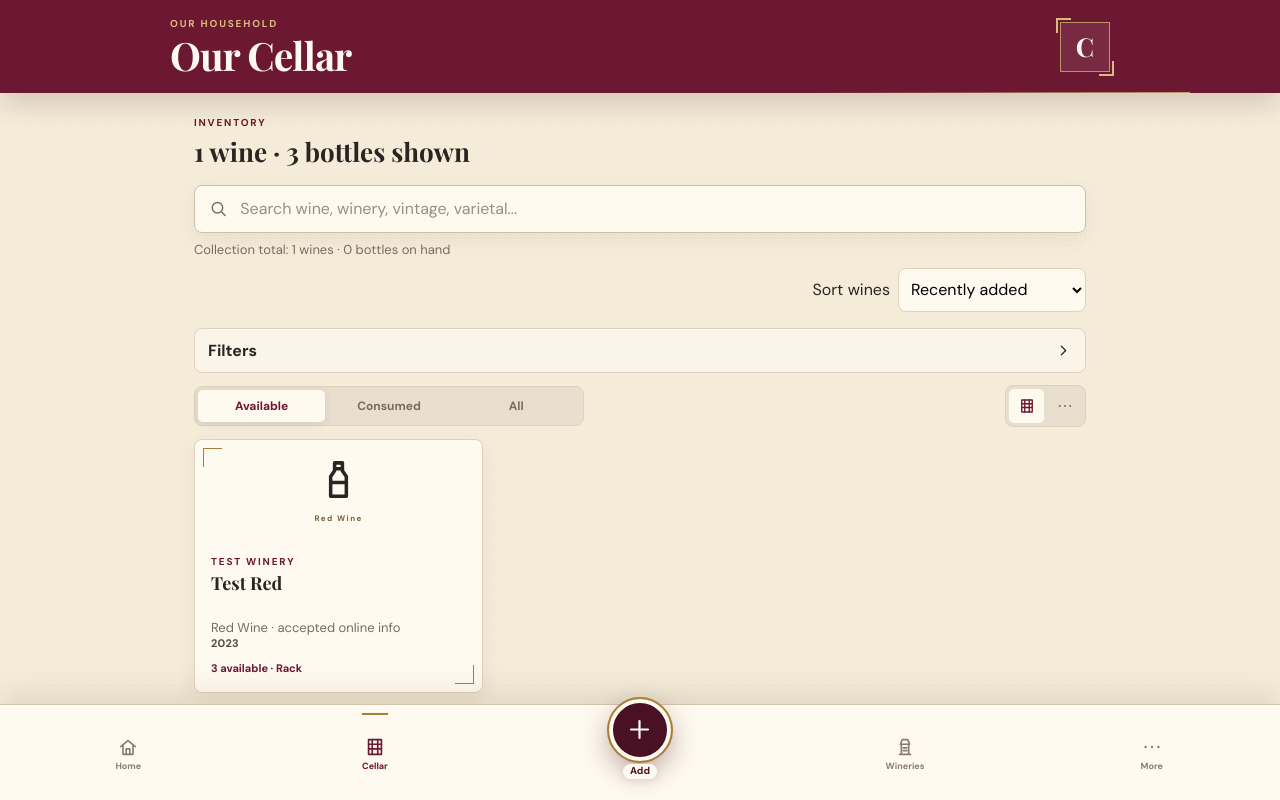
it: Pass 3 queue opens directly at review and Accept returns to the searched queue
Click the button "More".
click(1152, 754)  # box [1028, 712, 1275, 795]
(page scrolled)
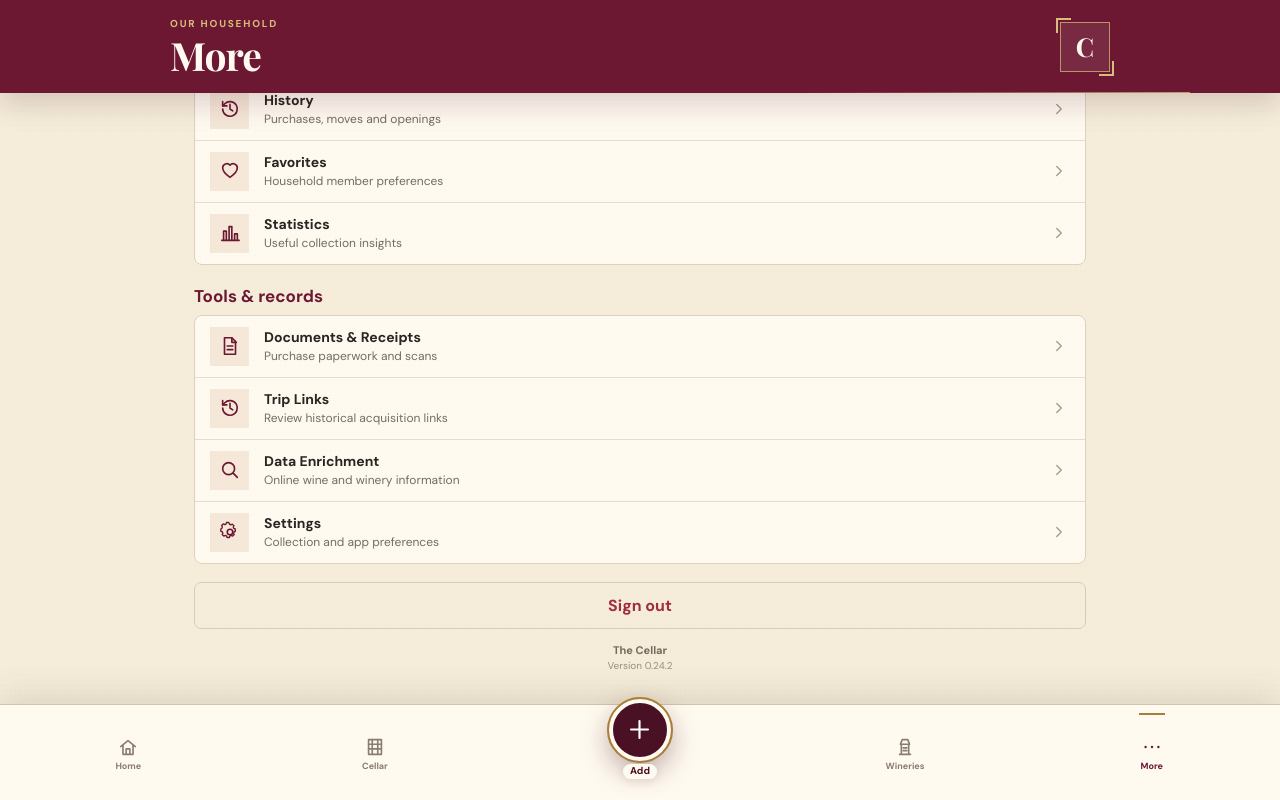
Click the button "Data Enrichment Online wine and winery information".
click(230, 470)  # box [195, 440, 1085, 502]
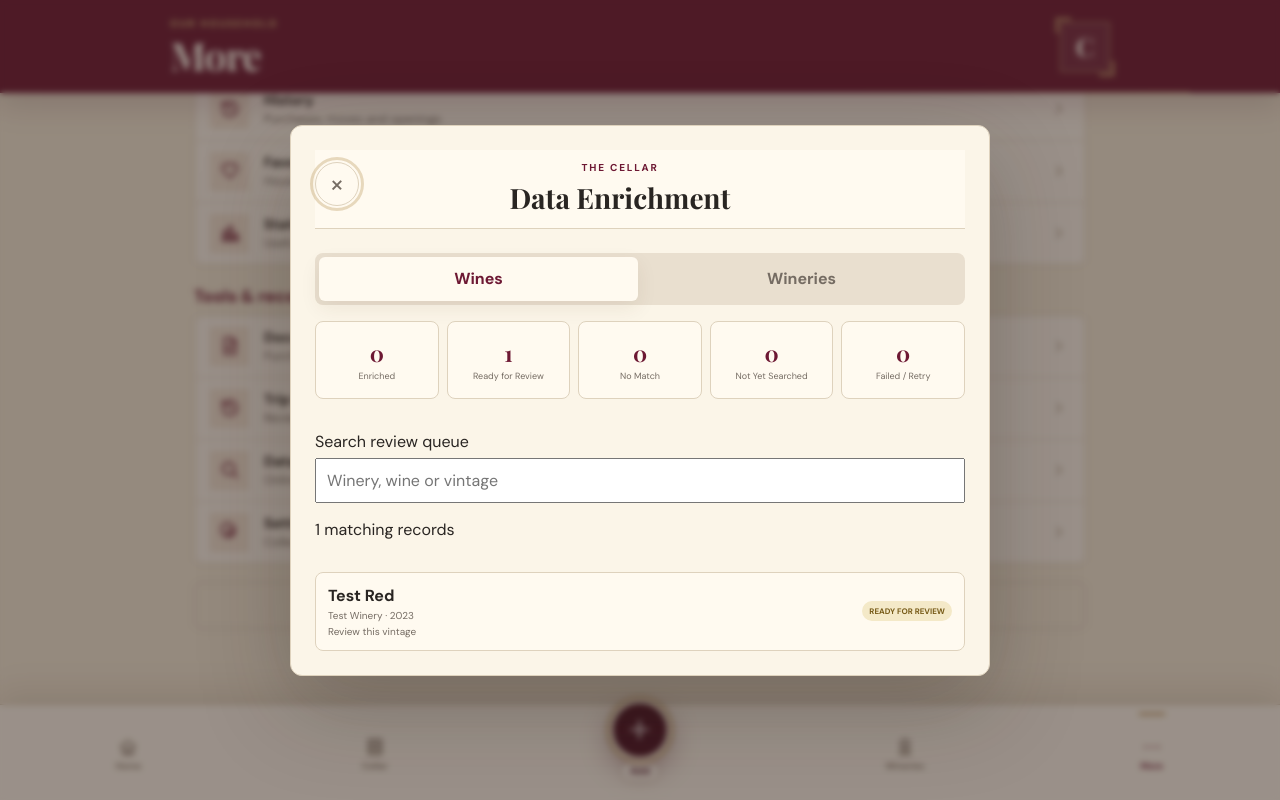
Type "Test Winery" into the search field labelled "Search review queue".
click(640, 480); type("Test Winery")  # box [315, 458, 965, 502]
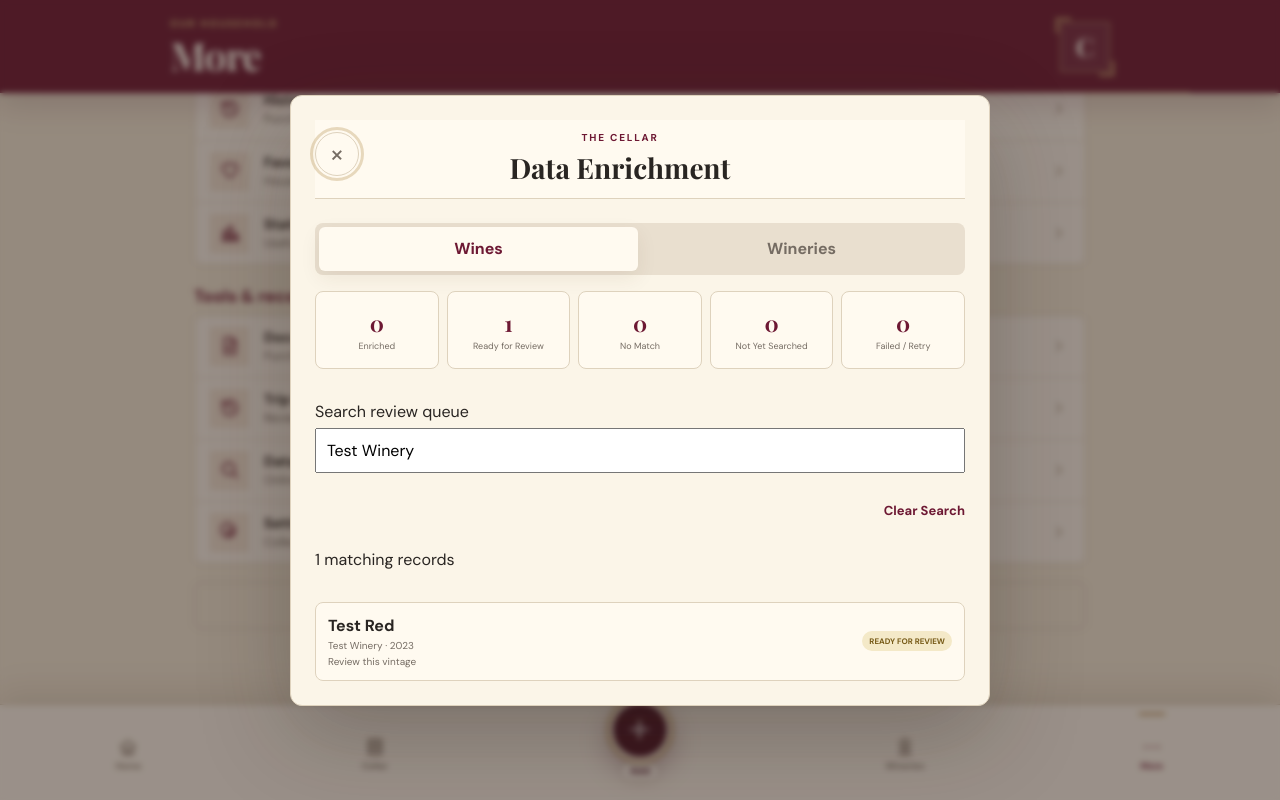
Click the button "1 Ready for Review".
click(508, 330)  # box [447, 290, 570, 368]
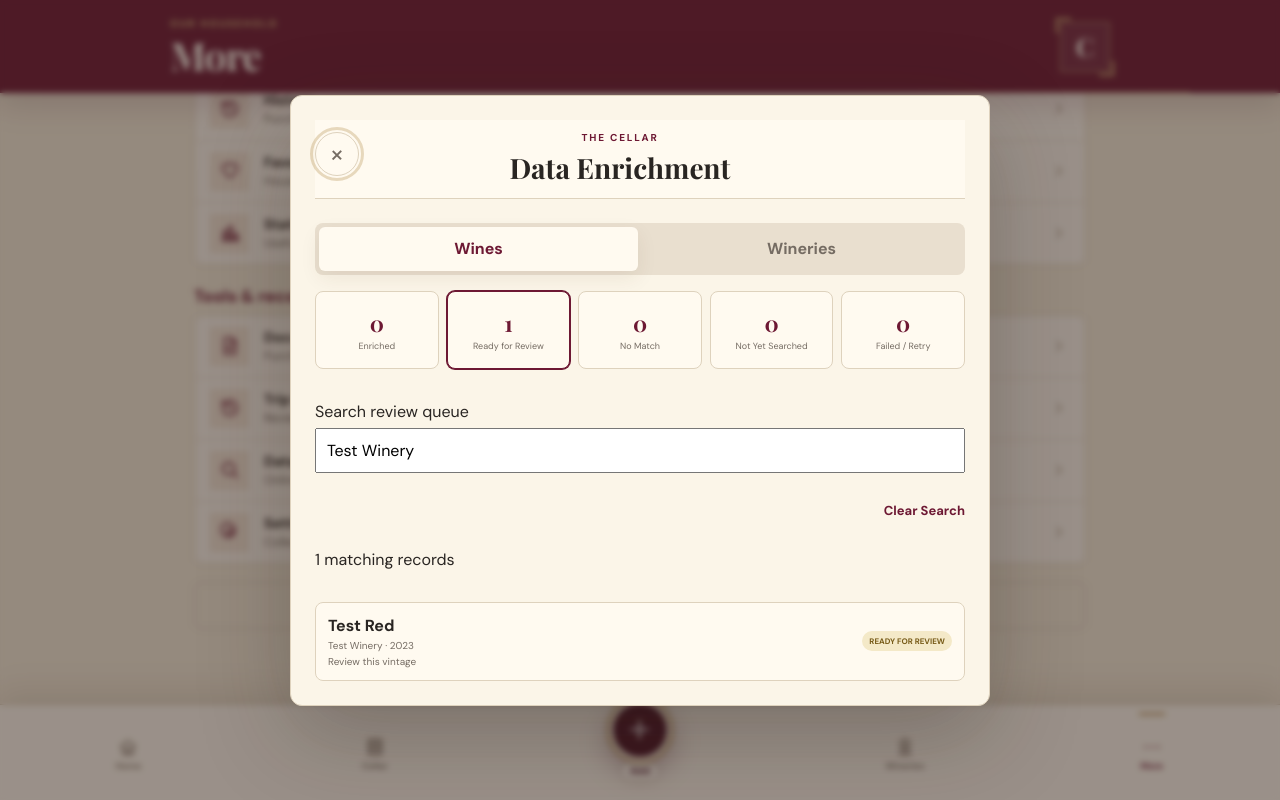
Click the button that starts with "Test Red".
click(361, 625)  # box [315, 602, 965, 680]
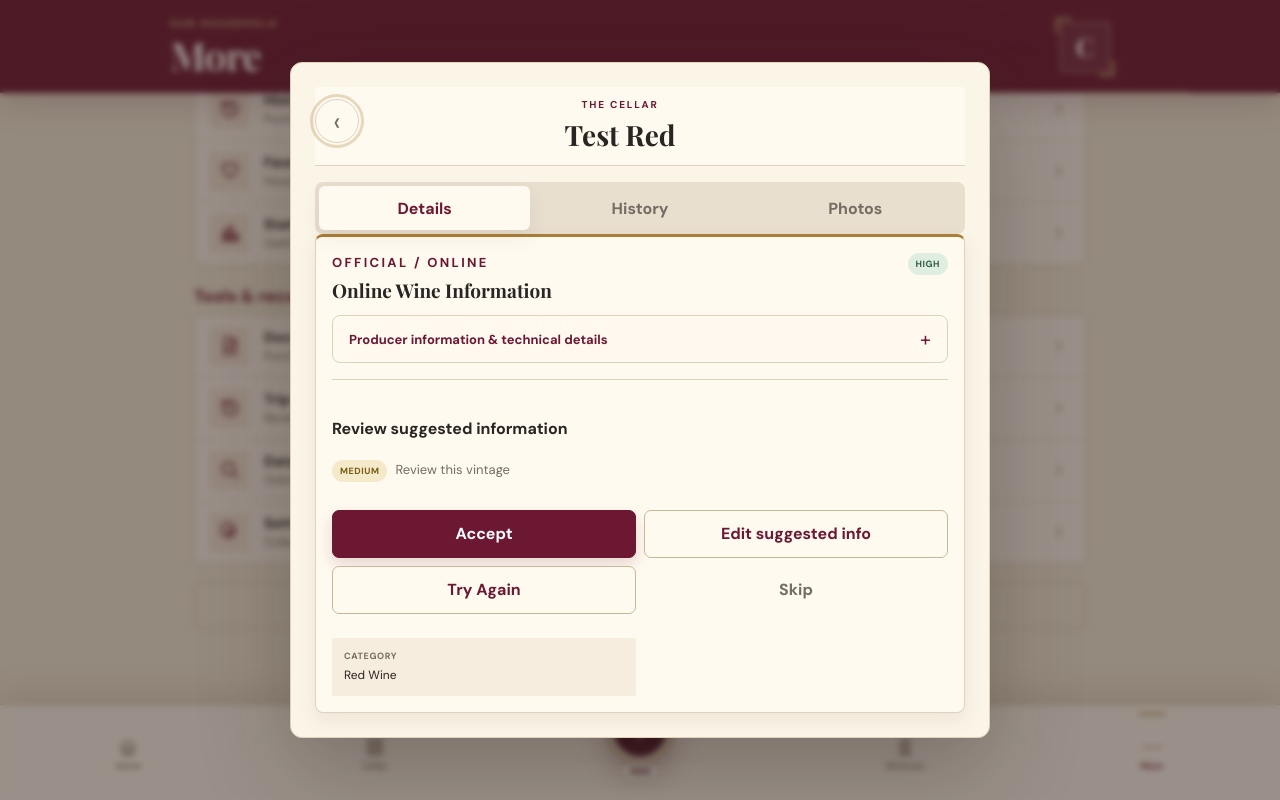
Check: the heading "Review suggested information" is shown, box [332, 418, 568, 439]
Click the button "Accept".
click(484, 534)  # box [332, 510, 636, 558]
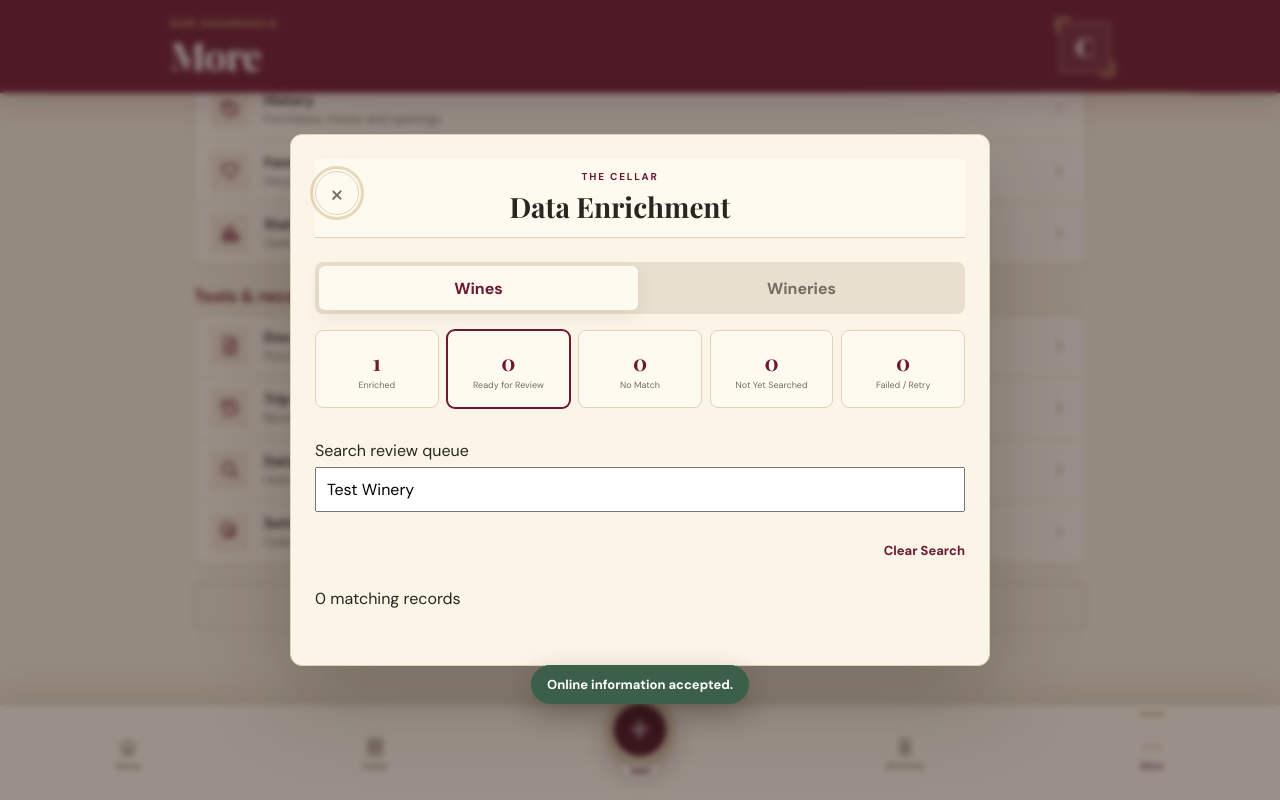
Check: the search field labelled "Search review queue" holds "Test Winery", box [315, 467, 965, 512]
Check: the text "0 matching records" is shown, box [315, 588, 461, 609]
